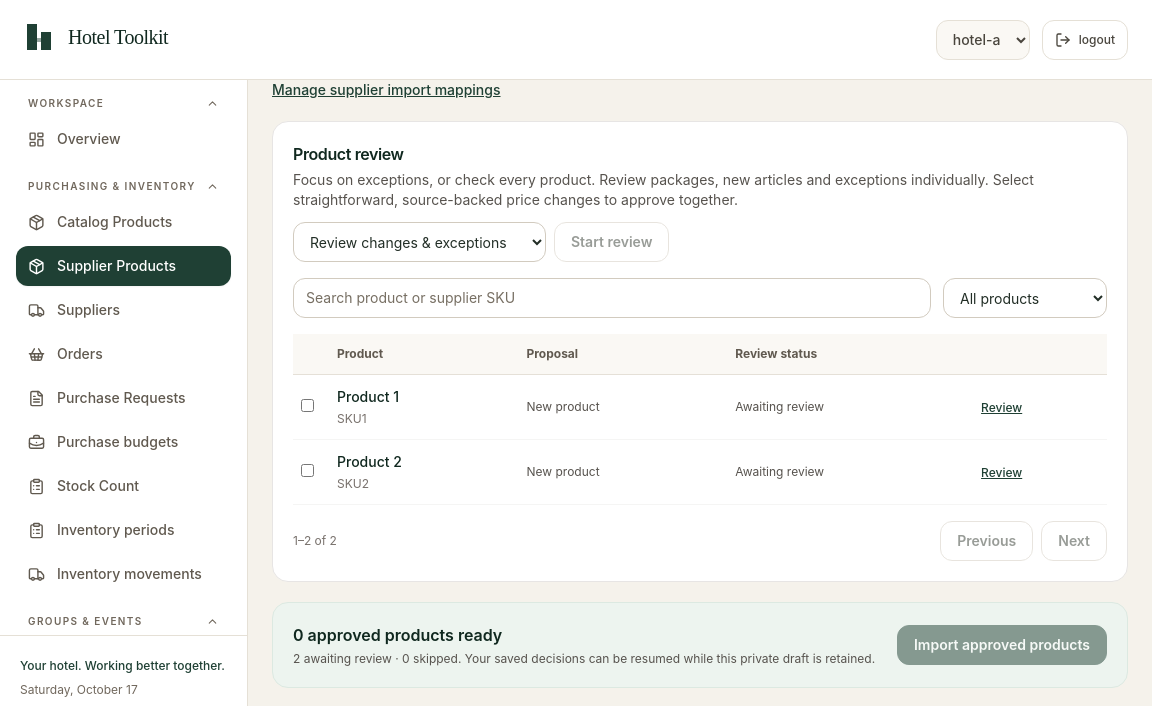
only bulk-approves explicitly selected warning-free products, then imports after a separate final confirmation
(page scrolled)
What coordinates should you click on to do the following:
click the checkbox named "Select Product 1"
I would click on:
 (308, 406)
Its box is [301,399,314,412].
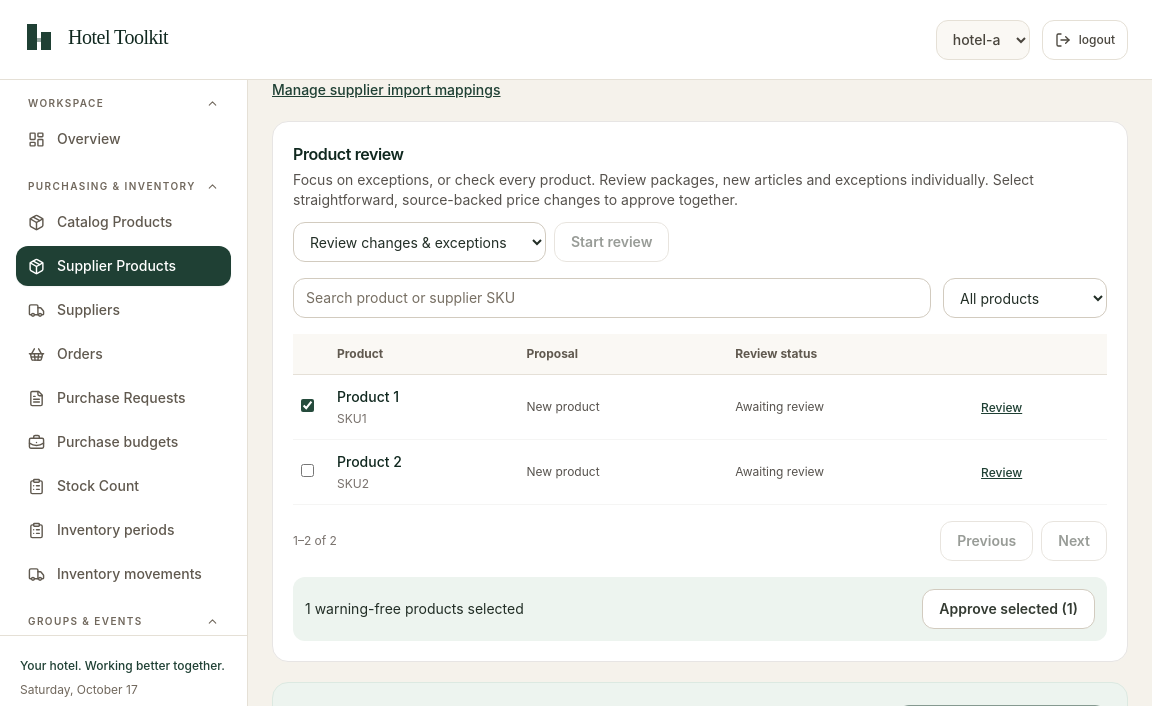
What coordinates should you click on to do the following:
click the button "Approve selected (1)"
I would click on:
 (1009, 609)
Its box is [922,589,1095,629].
(page scrolled)
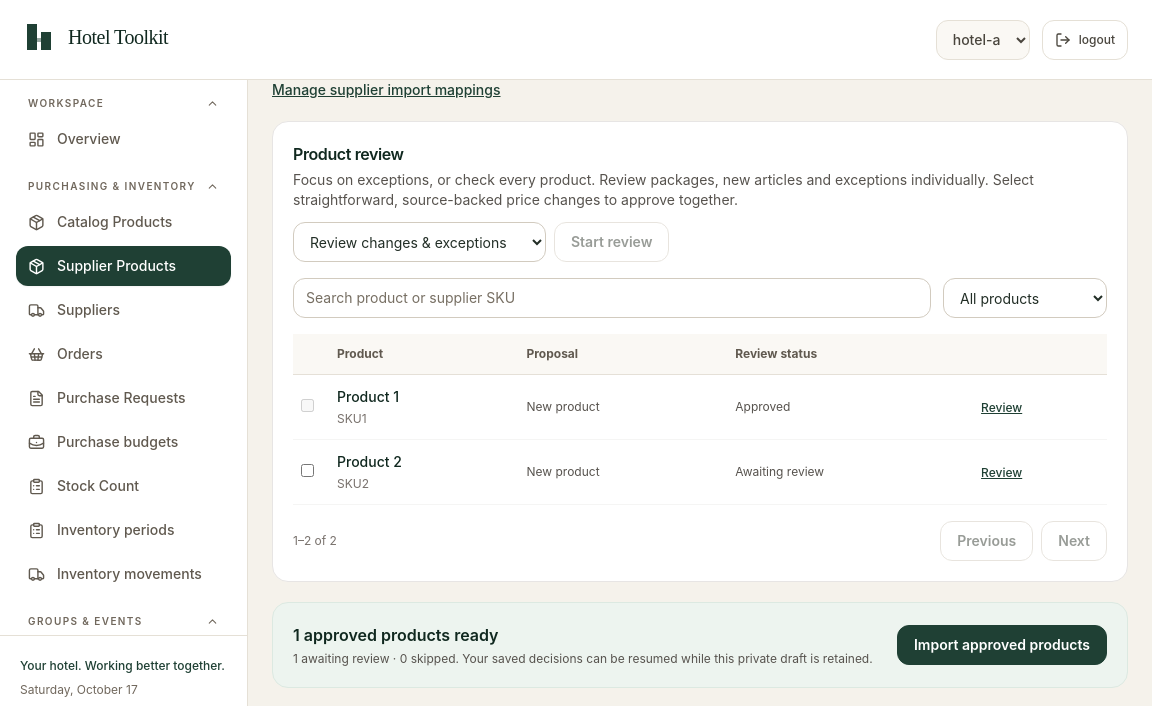
What coordinates should you click on to do the following:
click the button "Import approved products"
I would click on:
 (1002, 645)
Its box is [897,625,1107,665].
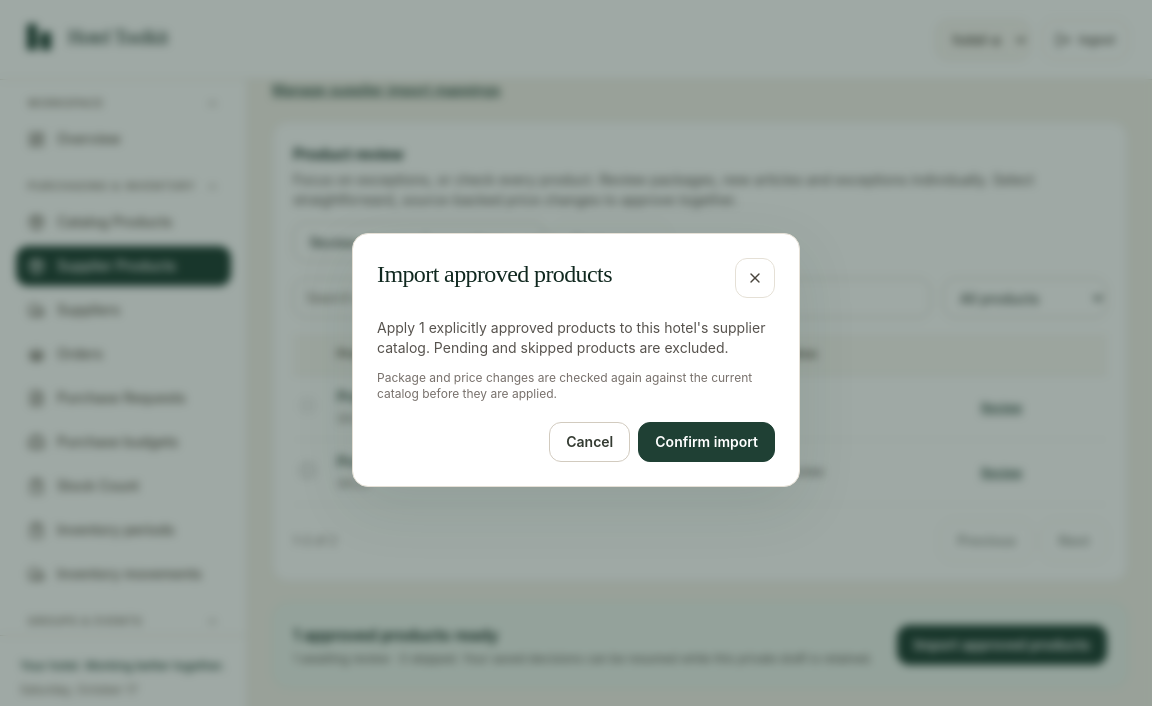
What coordinates should you click on to do the following:
click the button "Confirm import"
I would click on:
 (707, 442)
Its box is [638,422,775,462].
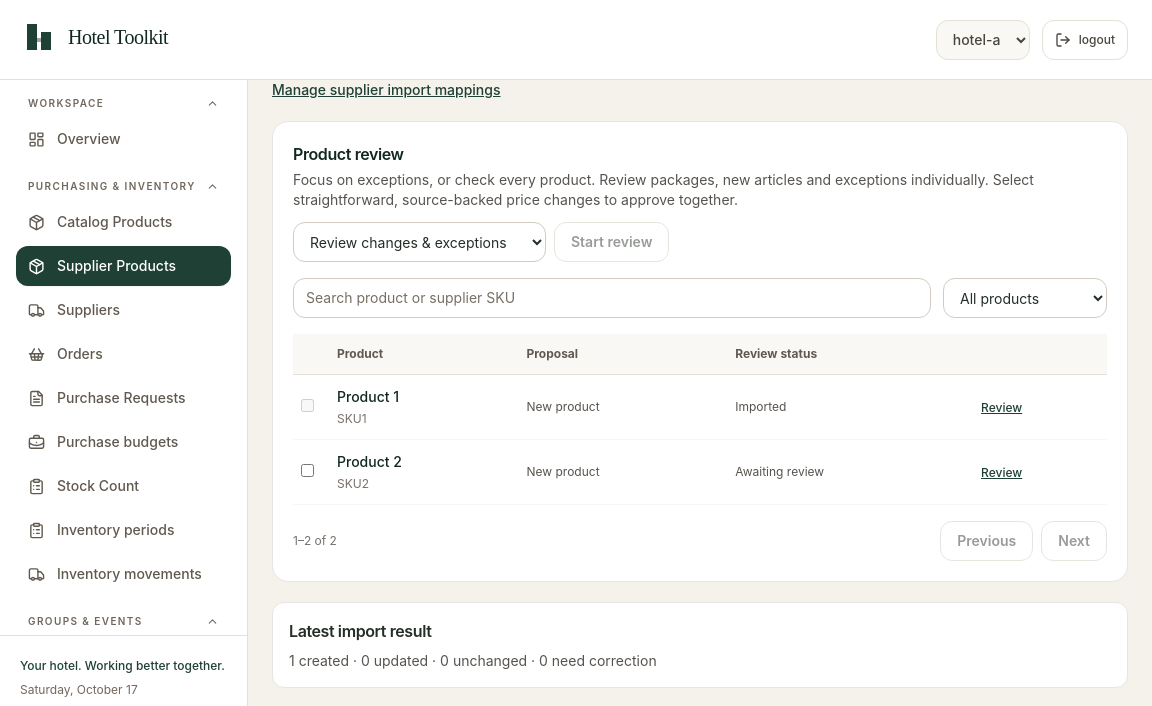
Expected: the heading "Latest import result" is shown, [289,621,431,641]
